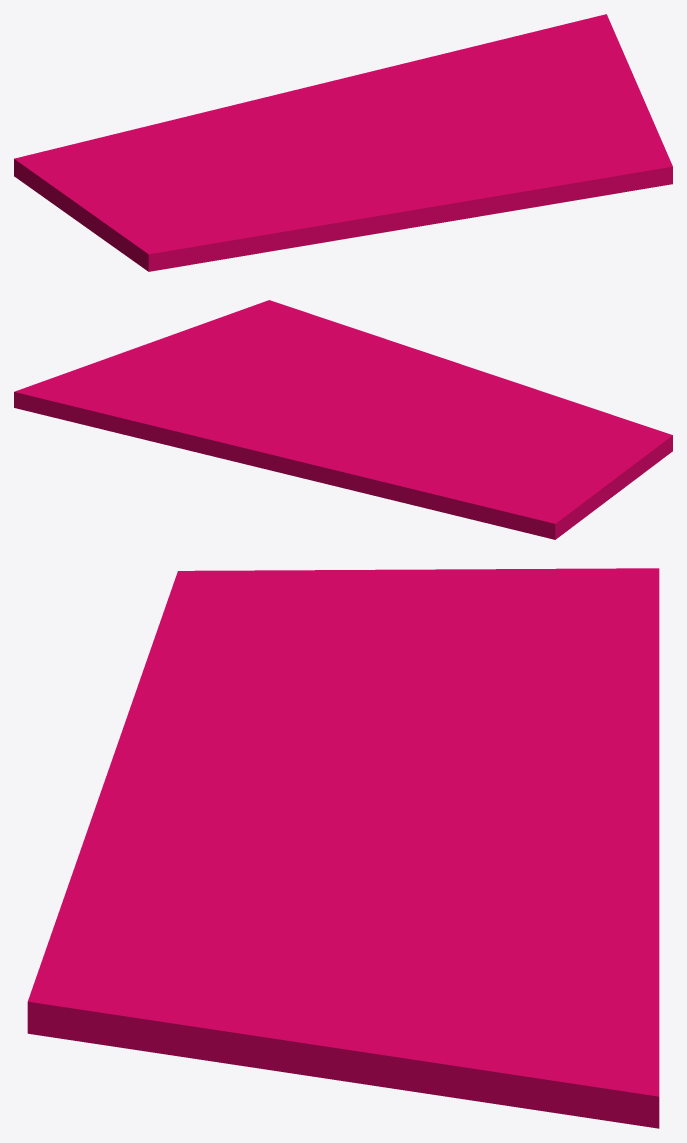
The model's file is Board_Form_07.fbx.
3 views of the same model, one above another, from view 1: azimuth 30°, elevation 25°; view 2: azimuth 150°, elevation 25°; view 3: azimuth 270°, elevation 25° (orthographic). The views are drawn at different scales.
Visible parts, largest first — view 1: Board_Form_07; view 2: Board_Form_07; view 3: Board_Form_07.
Boxes of the visible parts, x1,y1,x2,y2 form: Board_Form_07: (14, 14, 672, 271); Board_Form_07: (14, 300, 672, 539); Board_Form_07: (27, 568, 659, 1128).
Size of the model in its own units: 7.78 by 0.2201 by 3.93.
